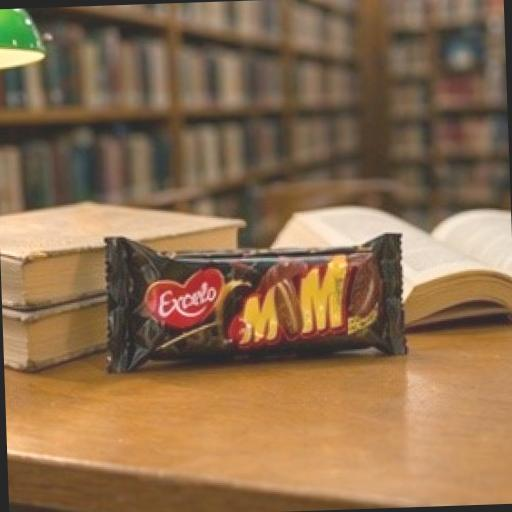MOMO: (72, 168, 452, 440)
